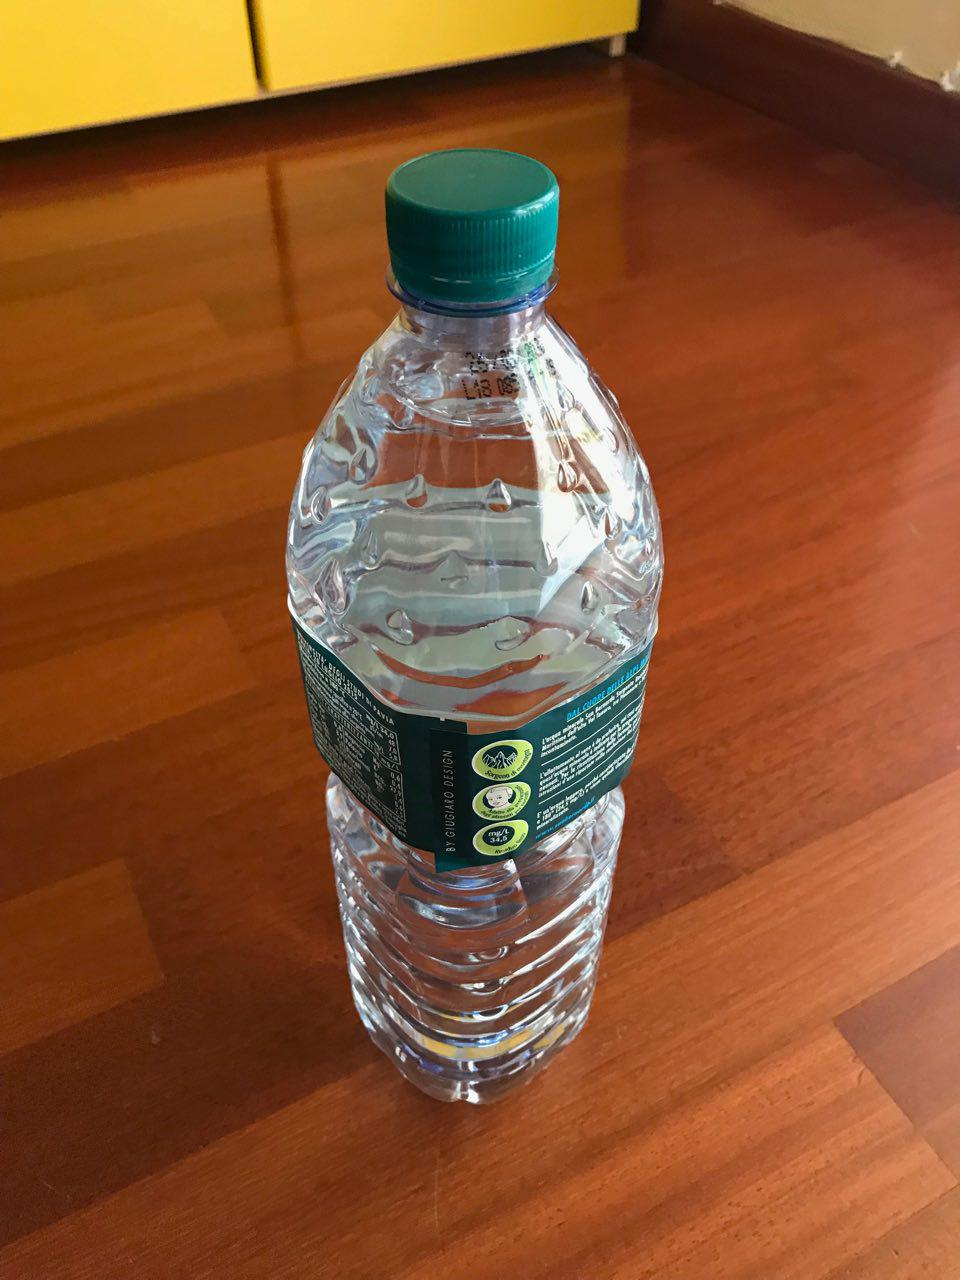san_bernardo: (283, 146, 666, 1108)
